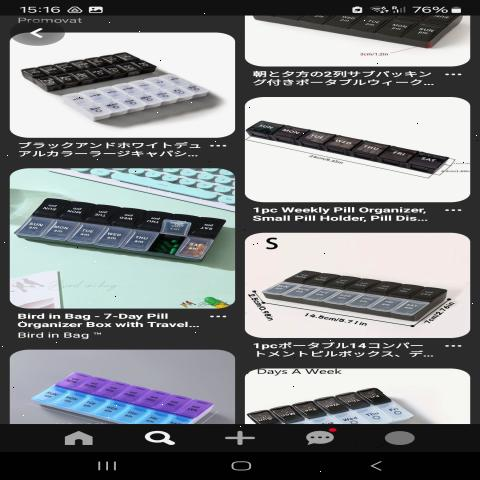PillBox: (13, 190, 232, 268), (251, 115, 463, 185), (253, 261, 463, 331), (15, 48, 156, 90)
